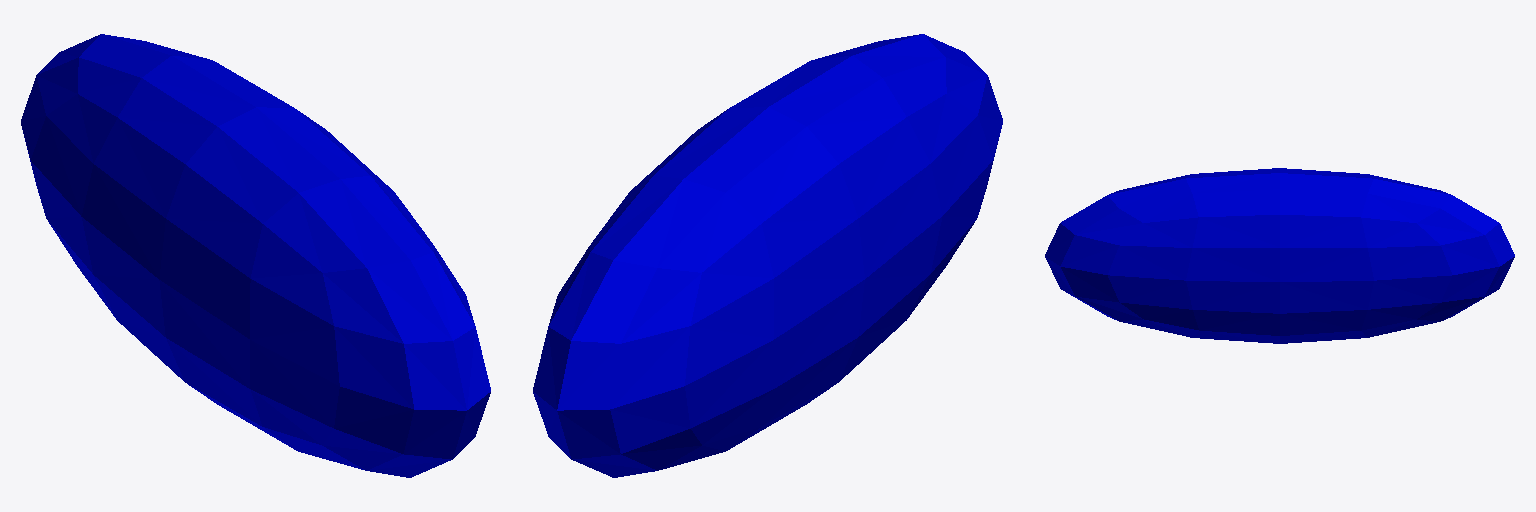
robot.urdf — blob594:

<robot name="blob594">
  <link name="random_obj_594">
    <contact>
      <lateral_friction value="1.0"/>
      <rolling_friction value="0.0"/>
      <inertia_scaling value="3.0"/>
      <contact_cfm value="0.0"/>
      <contact_erp value="1.0"/>
    </contact>
    <inertial>
      <origin rpy="0 0 0" xyz="0 0 0"/>
      <mass value="0.1255"/>
      <inertia ixx="1" ixy="0" ixz="0" iyy="1" iyz="0" izz="0"/>
    </inertial>
    <visual>
      <origin rpy="0 0 0" xyz="0 0 0"/>
      <geometry>
        <mesh filename="594.obj" scale="0.0080 0.0080 0.0080"/>
      </geometry>
      <material name="blockmat">
        <color rgba="0.00 0.03 0.85 1"/>
      </material>
    </visual>
    <collision>
      <origin rpy="0 0 0" xyz="0 0 0"/>
      <geometry>
        <mesh filename="594_coll.obj" scale="0.0080 0.0080 0.0080"/>
      </geometry>
    </collision>
  </link>
</robot>

--- What the picture shows (computed from the rendered views, not written in the file) ---
3 views of the same robot in one strip: view 1: azimuth 30°, elevation 25°; view 2: azimuth 150°, elevation 25°; view 3: azimuth 270°, elevation 25° (orthographic).
Model blob594 with 1 links and 0 joints (none), rooted at random_obj_594, posed every joint at zero.
Links seen in each view (by area): view 1: random_obj_594; view 2: random_obj_594; view 3: random_obj_594.
Boxes of the visible links, x1=… form: random_obj_594: x1=21, y1=34, x2=490, y2=477; random_obj_594: x1=533, y1=34, x2=1002, y2=477; random_obj_594: x1=1045, y1=168, x2=1514, y2=343.
Bounding box of the posed robot: 0.0223 × 0.0844 × 0.0328 m (x, y, z).
1 mesh visuals loaded from 1 distinct referenced files (1 OBJ).
